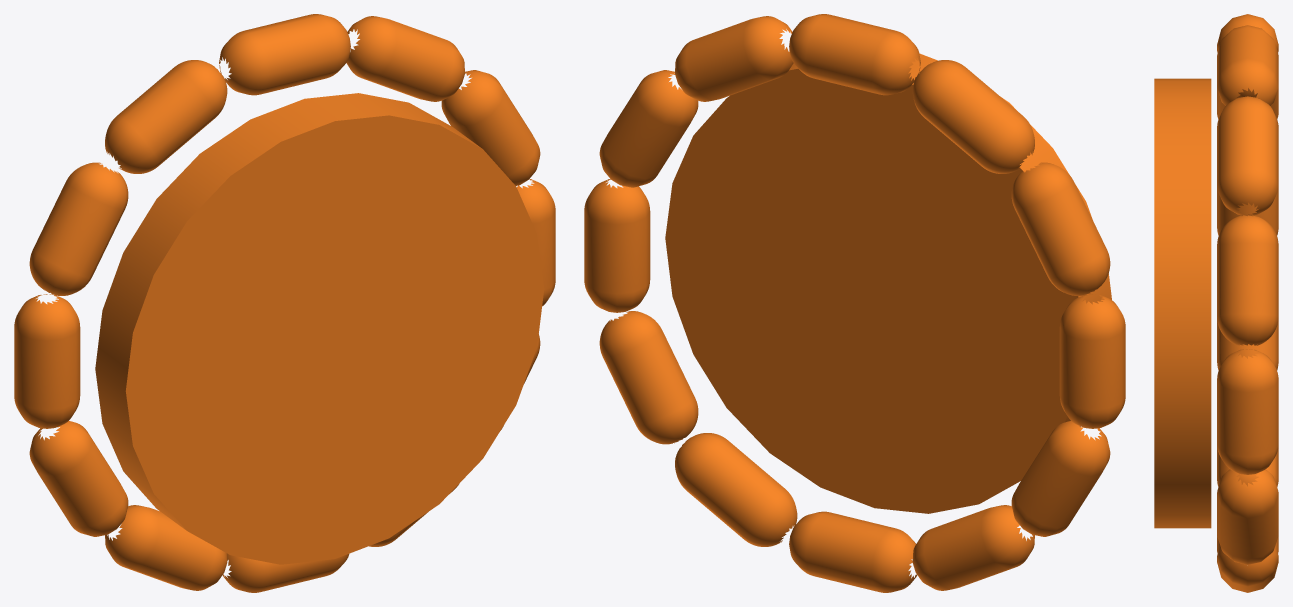
3 views of the same model, side by side, from view 1: azimuth 30°, elevation 25°; view 2: azimuth 150°, elevation 25°; view 3: azimuth 270°, elevation 25° (orthographic). The views are drawn at different scales.
Visible parts, largest first — view 1: gripper_frame; view 2: gripper_frame; view 3: gripper_frame.
Part boxes in pixels (x1=…): gripper_frame: x1=14, y1=14, x2=555, y2=592; gripper_frame: x1=584, y1=14, x2=1125, y2=592; gripper_frame: x1=1154, y1=14, x2=1278, y2=592.
Size of the model in its own units: 0.0202 by 0.0202 by 0.00436.
